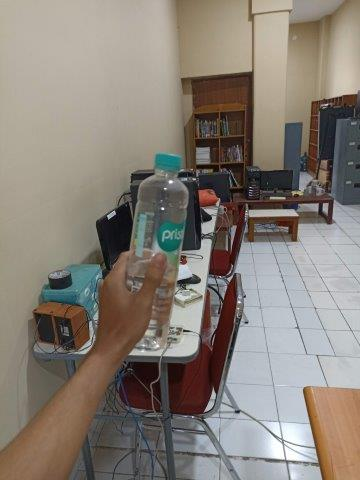botolplastik: (126, 151, 189, 353)
